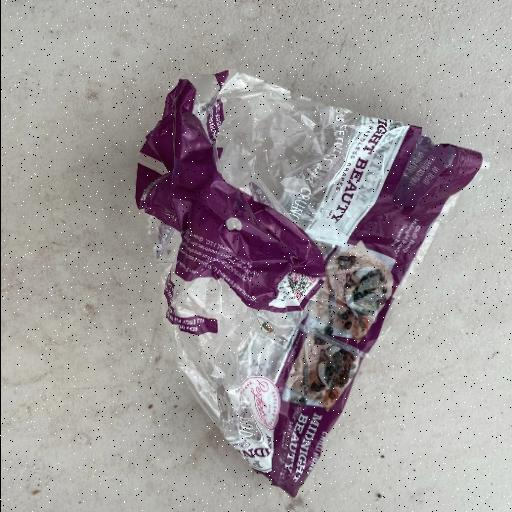Plastic: (134, 68, 486, 498)
